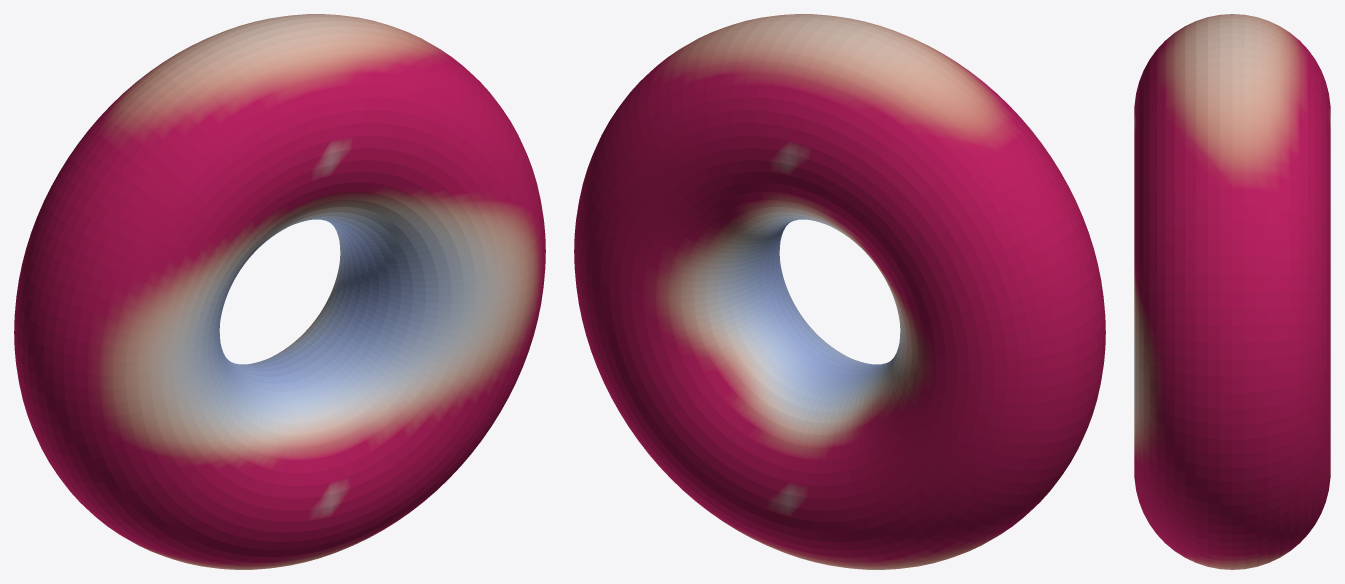
The picture shows the model from 3 angles, left to right: view 1: azimuth 30°, elevation 25°; view 2: azimuth 150°, elevation 25°; view 3: azimuth 270°, elevation 25°; orthographic projection. The views are drawn at different scales.
Visible parts, largest first — view 1: world; view 2: world; view 3: world.
Boxes of the visible parts, <box> form: world: <box>14,14,545,569</box>; world: <box>574,14,1105,569</box>; world: <box>1134,14,1330,569</box>.
Size of the model in its own units: 26.8 by 26.8 by 9.45.
